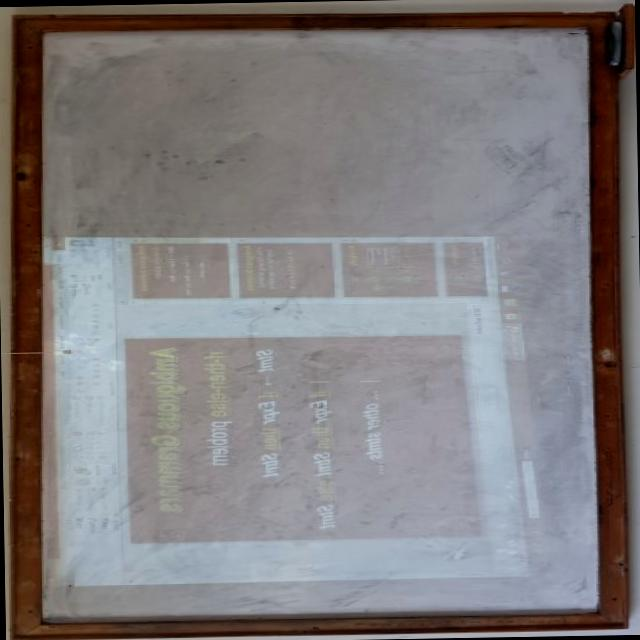Slide: (35, 233, 550, 583)
White-board: (26, 17, 610, 631)
